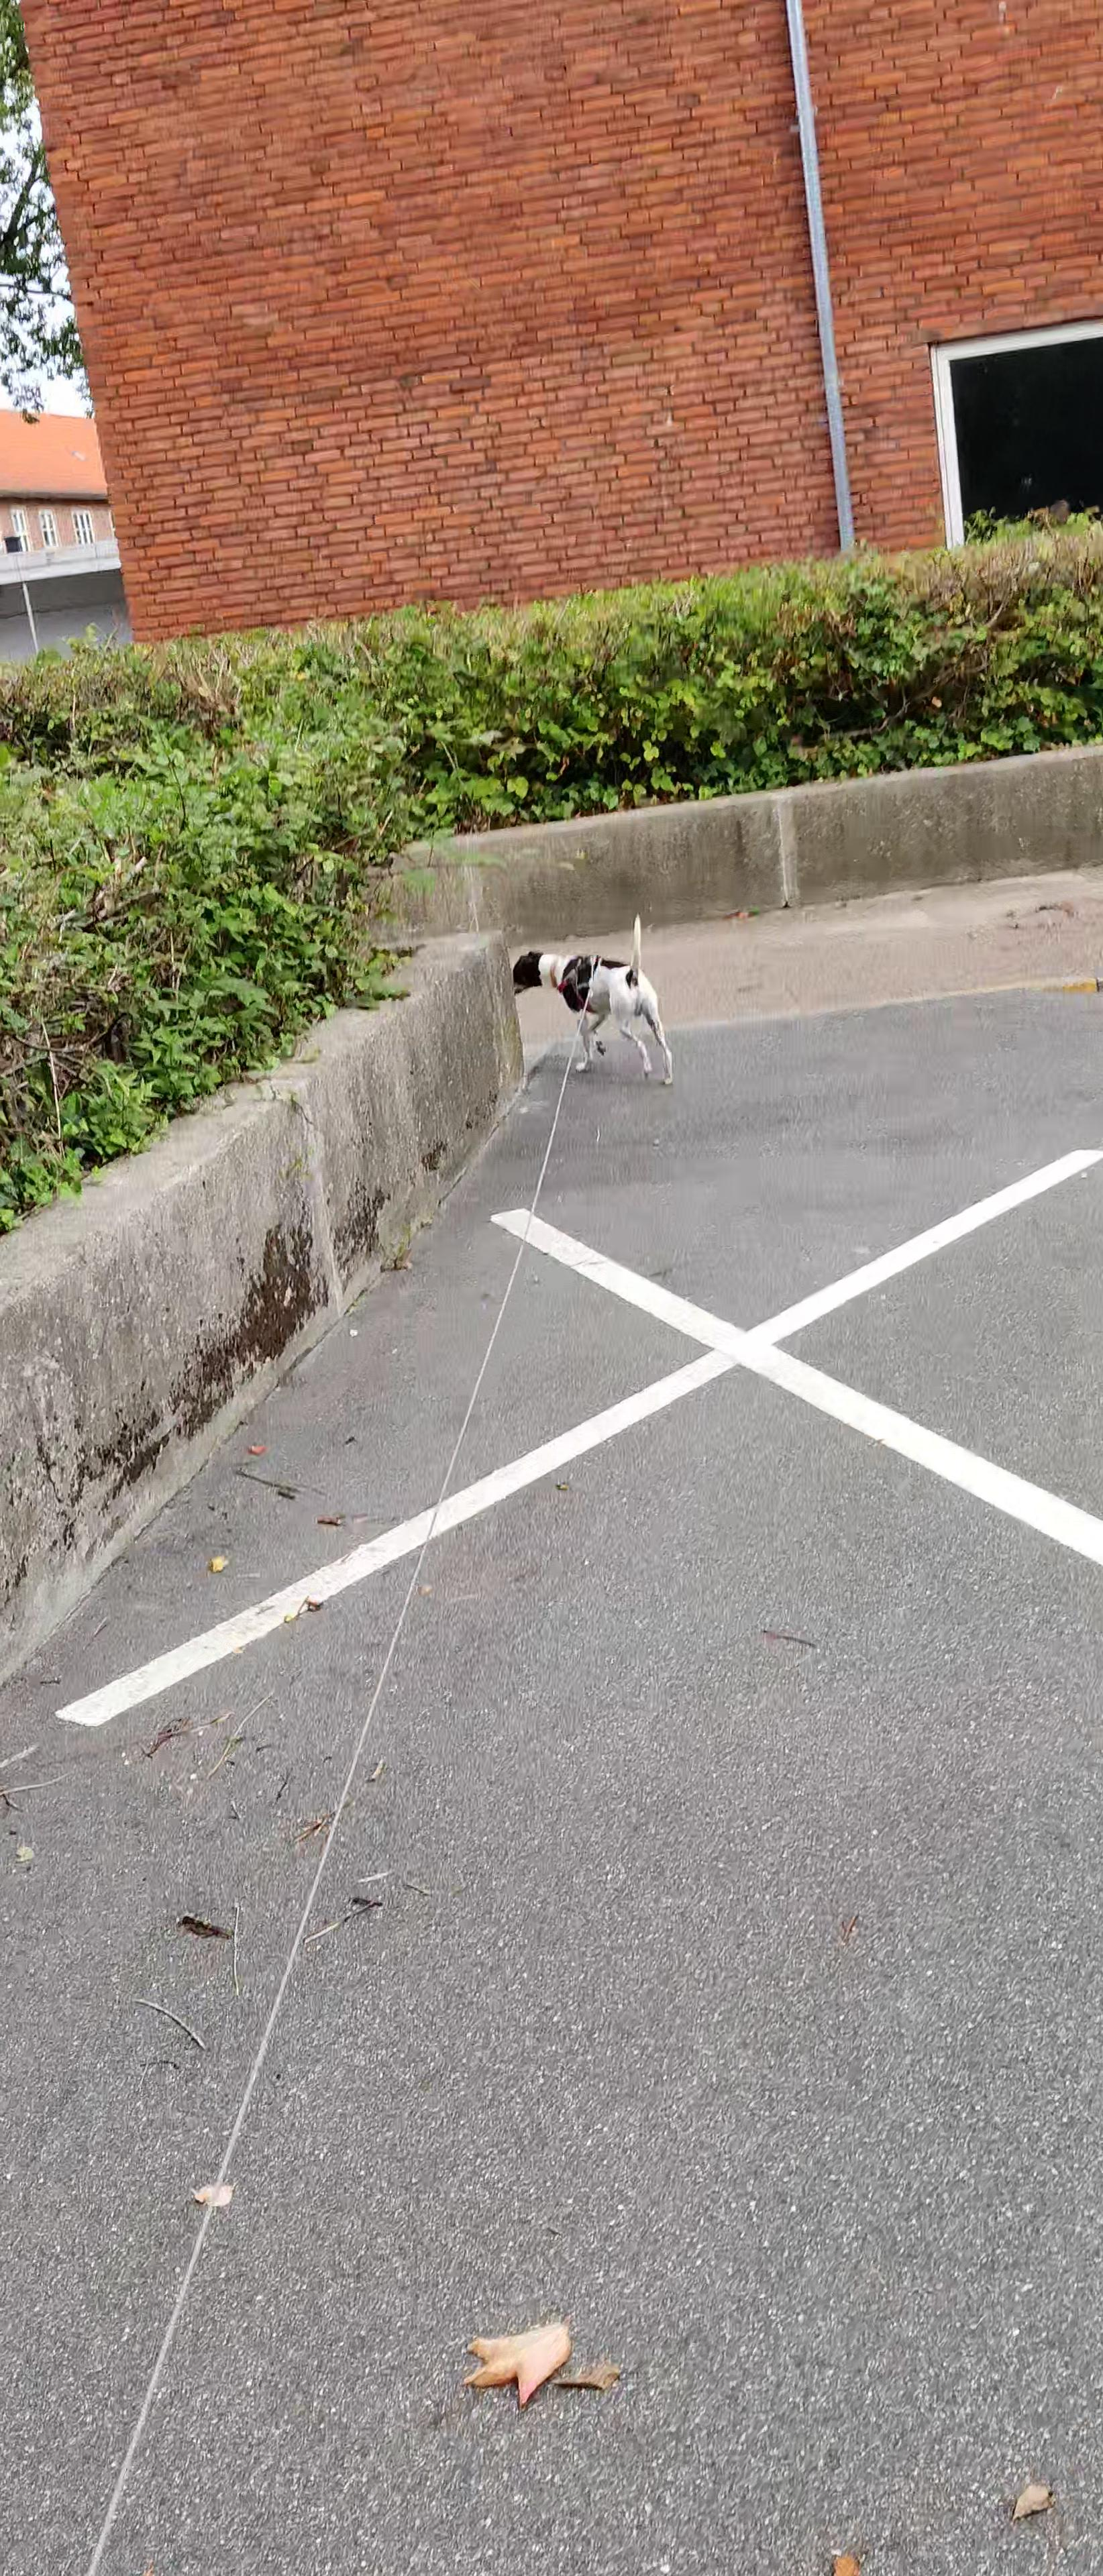Dog: (511, 912, 676, 1086)
